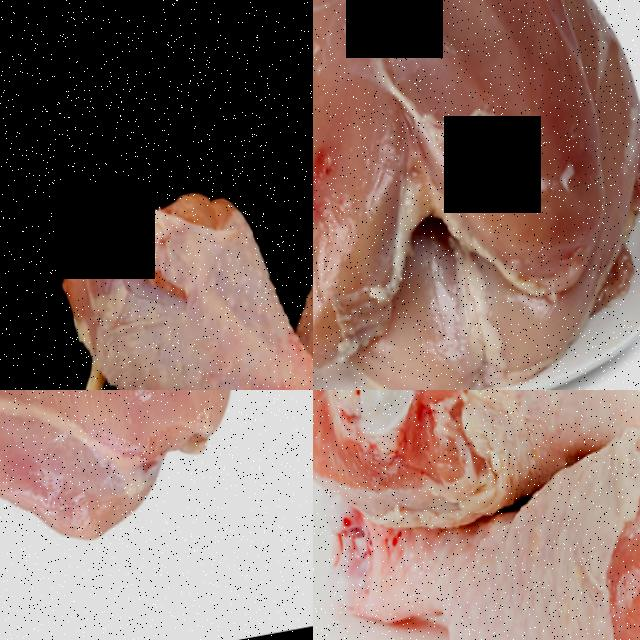chicken breast: (313, 0, 640, 390), (0, 390, 306, 601)
chicken thigh: (313, 428, 640, 640), (45, 160, 313, 390), (313, 390, 640, 519)
